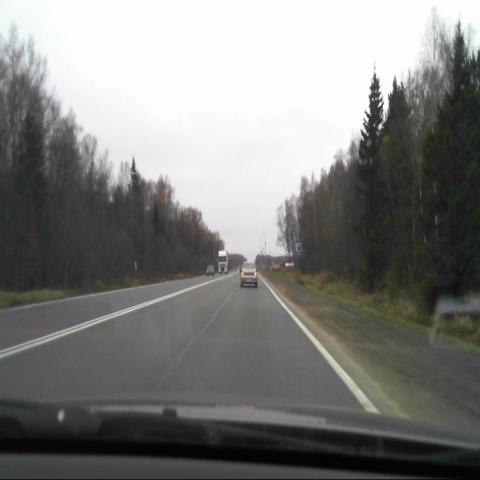7_3: (294, 239, 301, 253)
